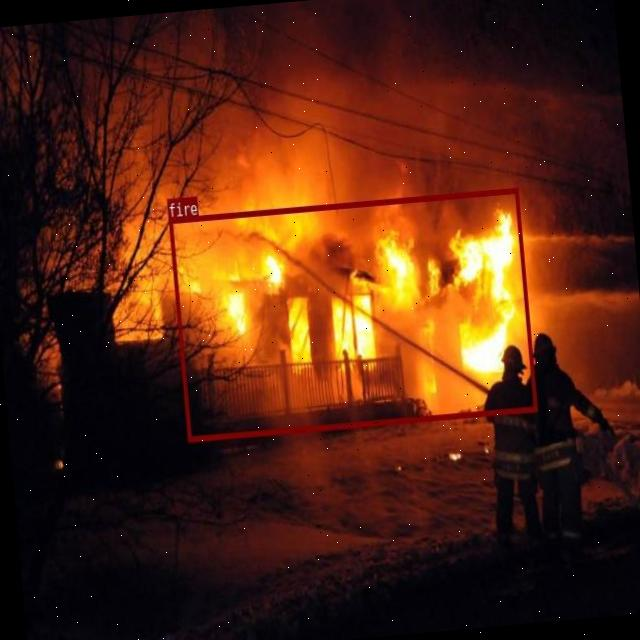fire: (168, 186, 536, 440)
